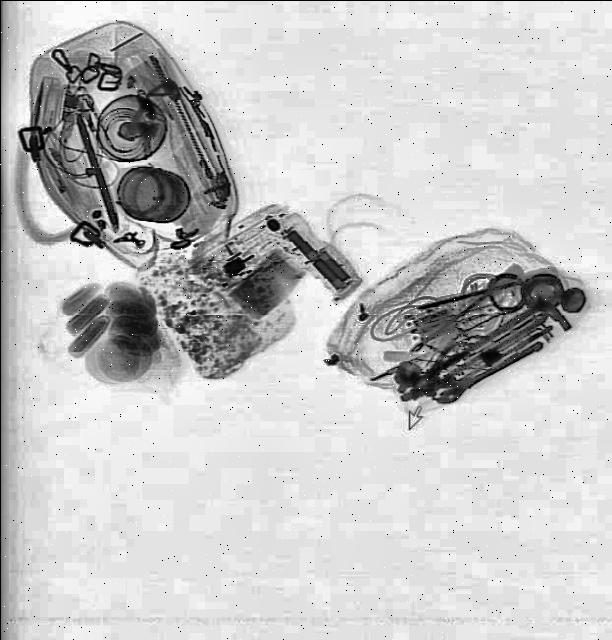Wrench: (430, 336, 546, 410)
